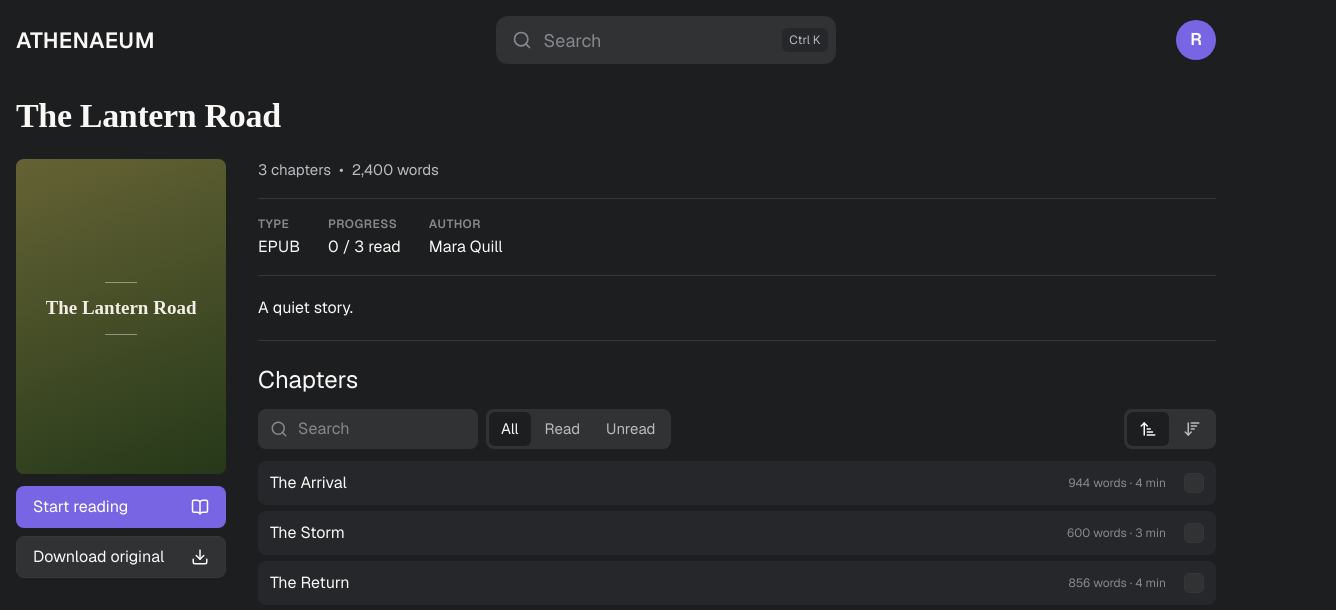
Test: book page: after reading › shows where you are when you come back from the reader
Click the link "The Storm 600 words · 3 min" at (307,533), box [270,522,1166,543]
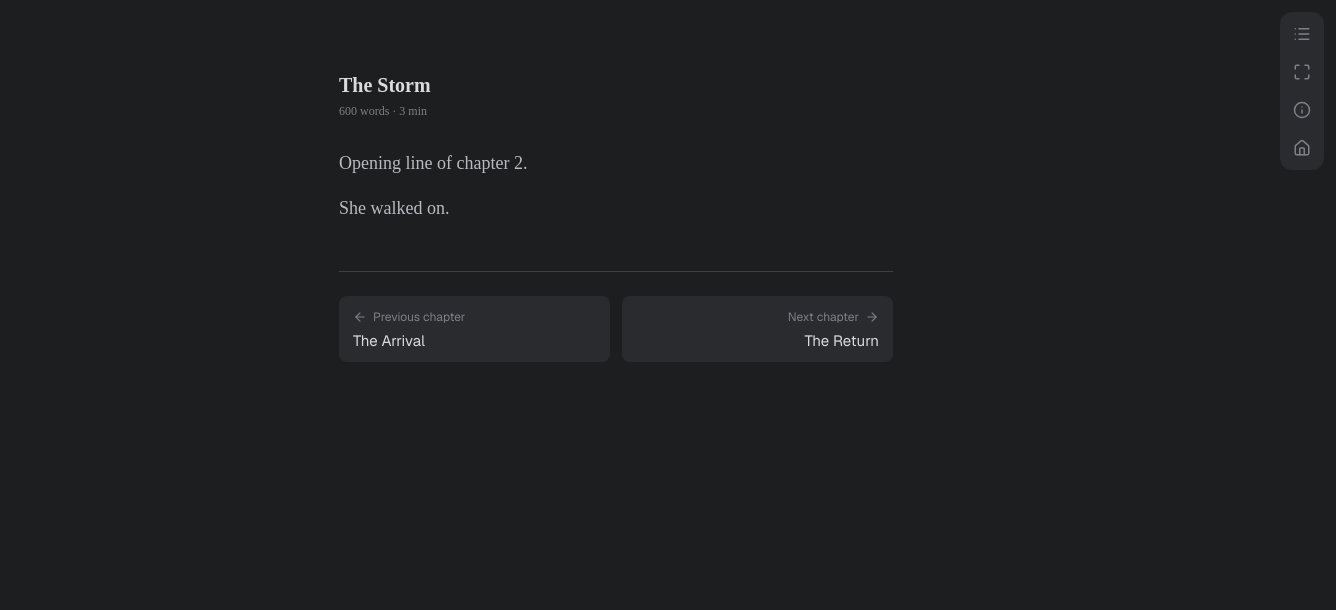
Check: the heading "The Storm" is shown, box [339,74,431,96]
Click the link named "Book details" at (1302,110), box [1293,101,1311,119]
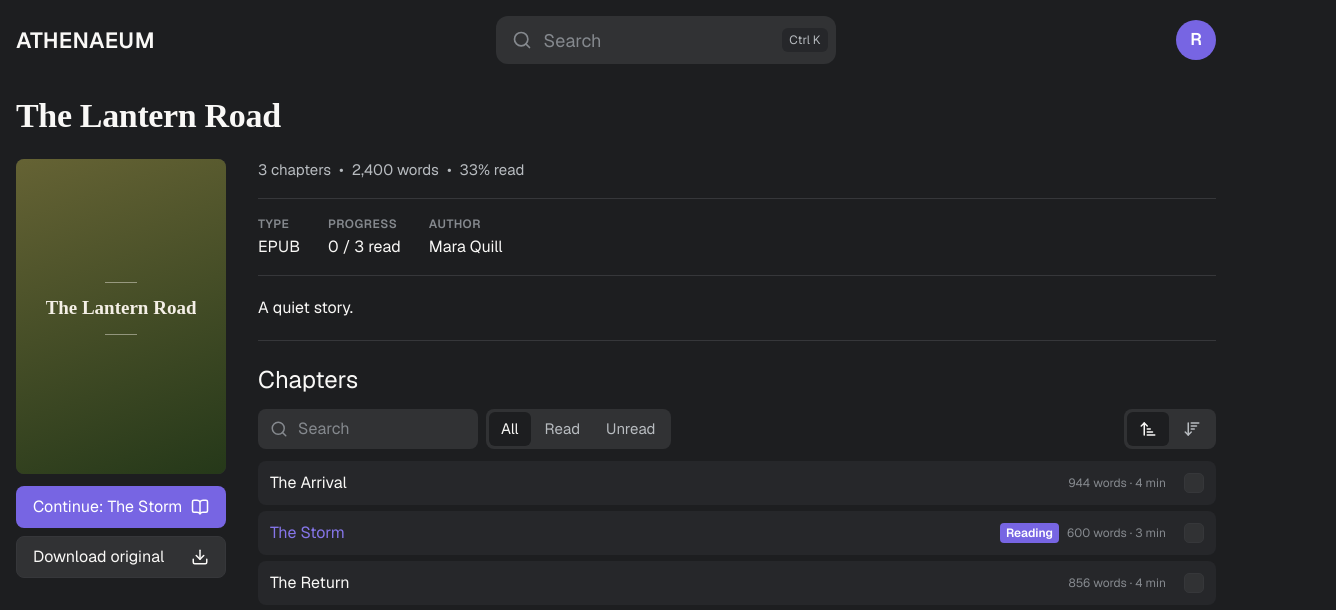
Check: the link "Continue: The Storm" is shown, box [16,486,226,528]
